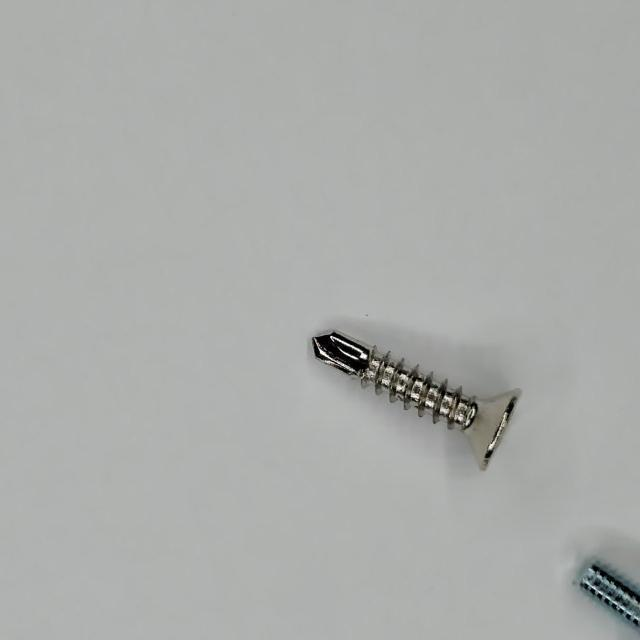Screw: (313, 332, 522, 470), (581, 566, 640, 626)
